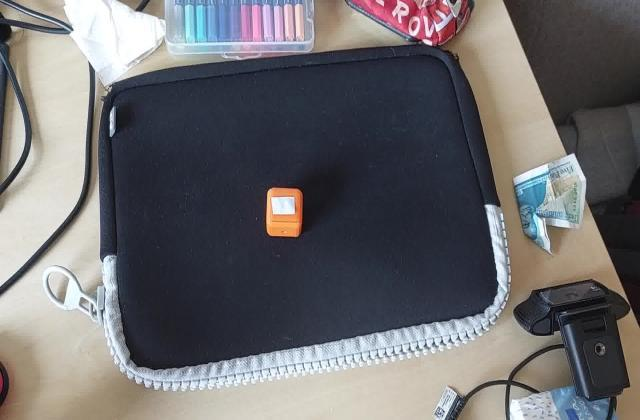sticker: (264, 186, 304, 240)
white: (268, 195, 298, 217)
